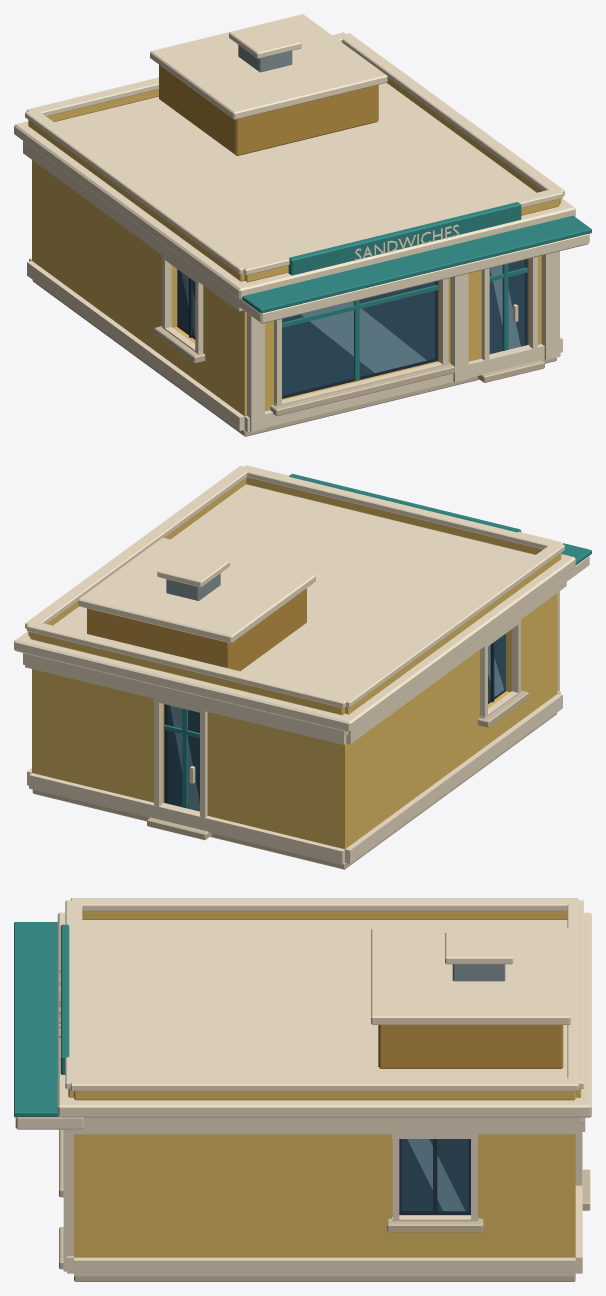
Rendered from sandwich_shop.glb.
3 views of the same model, one above another, from view 1: azimuth 30°, elevation 25°; view 2: azimuth 150°, elevation 25°; view 3: azimuth 270°, elevation 25° (orthographic). The views are drawn at different scales.
Visible parts, largest first — view 1: SandwichShop_StaticMesh; view 2: SandwichShop_StaticMesh; view 3: SandwichShop_StaticMesh.
Boxes of the visible parts, box(x1,y1,x2,y2) form: SandwichShop_StaticMesh: box(14, 14, 591, 436); SandwichShop_StaticMesh: box(14, 465, 591, 869); SandwichShop_StaticMesh: box(14, 898, 591, 1281).
Size of the model in its own units: 7.32 by 4.72 by 9.22.
